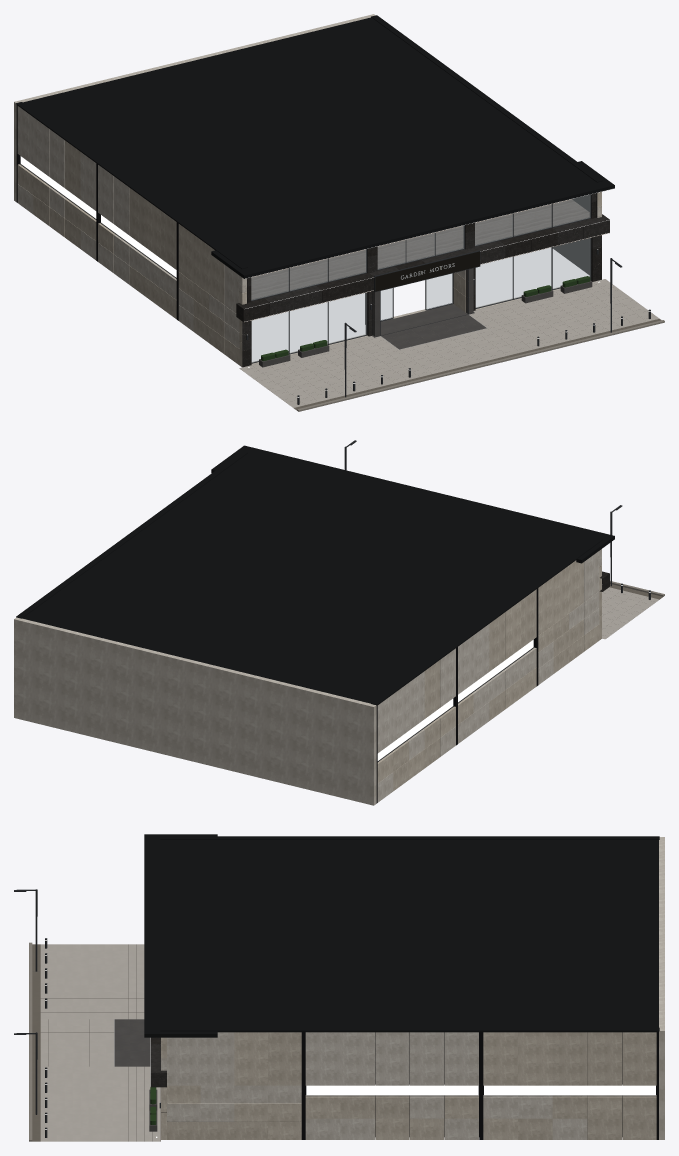
Rendered from room_facade.glb.
3 renders of one model, top to bottom at view 1: azimuth 30°, elevation 25°; view 2: azimuth 150°, elevation 25°; view 3: azimuth 270°, elevation 25°, orthographic. The views are drawn at different scales.
Parts seen in each view (by area): view 1: MTG_Roof, MTG_Walls, MTG_Floor, MTG_UpFloor, MTG_RoofSlab, MTG_Glass_Vit1, MTG_Glass_Vit-1, MTG_Glass_UpL, MTG_Glass_UpR, MTG_Glass_UpC, MTG_Reveals, MTG_SignPanel (+7 smaller); view 2: MTG_Roof, MTG_FacBack, MTG_Walls, MTG_RoofSlab, MTG_Floor, MTG_SideCoping1, MTG_SideCoping-1, MTG_Reveals, MTG_SideBand-1_1, MTG_SideBand-1_0; view 3: MTG_Roof, MTG_Walls, MTG_Floor, MTG_RoofSlab, MTG_Reveals, MTG_SideCoping1, MTG_SideCoping-1, MTG_SideBand1_0, MTG_SideBand1_1, MTG_FacBack, MTG_Curb.
Part boxes in pixels (x1=…): MTG_Roof: x1=17, y1=17, x2=593, y2=265; MTG_Walls: x1=17, y1=106, x2=609, y2=367; MTG_Floor: x1=239, y1=279, x2=661, y2=410; MTG_UpFloor: x1=251, y1=199, x2=589, y2=299; MTG_RoofSlab: x1=211, y1=161, x2=614, y2=278; MTG_Glass_Vit1: x1=476, y1=238, x2=590, y2=307; MTG_Glass_Vit-1: x1=252, y1=293, x2=366, y2=362; MTG_Glass_UpL: x1=251, y1=249, x2=366, y2=300; MTG_Glass_UpR: x1=475, y1=195, x2=590, y2=245; MTG_Glass_UpC: x1=378, y1=225, x2=463, y2=269; MTG_Reveals: x1=16, y1=105, x2=616, y2=394; MTG_SignPanel: x1=375, y1=251, x2=479, y2=291; MTG_Roof: x1=22, y1=455, x2=592, y2=705; MTG_FacBack: x1=14, y1=617, x2=376, y2=805; MTG_Walls: x1=377, y1=549, x2=609, y2=802; MTG_RoofSlab: x1=211, y1=445, x2=614, y2=563; MTG_Floor: x1=602, y1=584, x2=662, y2=639; MTG_SideCoping1: x1=16, y1=451, x2=247, y2=618; MTG_SideCoping-1: x1=371, y1=538, x2=602, y2=705; MTG_Reveals: x1=376, y1=588, x2=659, y2=803; MTG_SideBand-1_1: x1=377, y1=698, x2=453, y2=760; MTG_SideBand-1_0: x1=458, y1=639, x2=533, y2=701; MTG_Roof: x1=167, y1=840, x2=658, y2=1032; MTG_Walls: x1=150, y1=1032, x2=656, y2=1139; MTG_Floor: x1=32, y1=944, x2=160, y2=1141; MTG_RoofSlab: x1=144, y1=834, x2=217, y2=1037; MTG_Reveals: x1=32, y1=944, x2=658, y2=1141; MTG_SideCoping1: x1=160, y1=1027, x2=659, y2=1031; MTG_SideCoping-1: x1=160, y1=836, x2=659, y2=839; MTG_SideBand1_0: x1=306, y1=1085, x2=478, y2=1095; MTG_SideBand1_1: x1=484, y1=1085, x2=655, y2=1095; MTG_FacBack: x1=659, y1=837, x2=664, y2=1139; MTG_Curb: x1=29, y1=942, x2=32, y2=1141.
Size of the model in its own units: 34.6 by 8.85 by 47.65.
26 materials, 13 textured.
